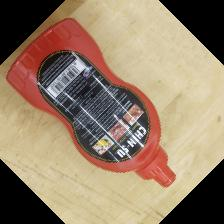Chinsu: (5, 17, 177, 189)
